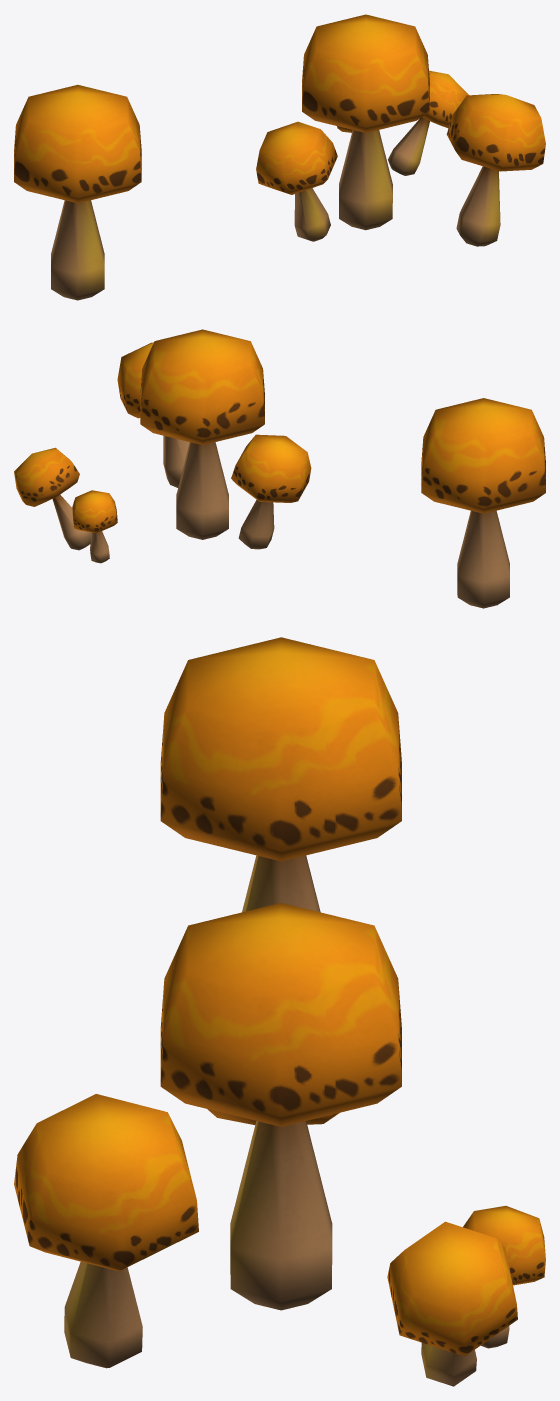
File: Mushroom_07.FBX
3 views of the same model, one above another, from view 1: azimuth 30°, elevation 25°; view 2: azimuth 150°, elevation 25°; view 3: azimuth 270°, elevation 25° (orthographic). The views are drawn at different scales.
Parts seen in each view (by area): view 1: Mushroom 7_group, Mushroom 7_single; view 2: Mushroom 7_group, Mushroom 7_single; view 3: Mushroom 7_group, Mushroom 7_single.
Boxes of the visible parts, left/top/right/bottom form: Mushroom 7_group: left=256, top=14, right=545, bottom=246; Mushroom 7_single: left=14, top=84, right=141, bottom=300; Mushroom 7_group: left=14, top=329, right=311, bottom=563; Mushroom 7_single: left=421, top=398, right=545, bottom=608; Mushroom 7_group: left=14, top=903, right=545, bottom=1386; Mushroom 7_single: left=160, top=637, right=401, bottom=912.
Size of the model in its own units: 18.37 by 7.24 by 9.01.
1 material, 1 textured.
